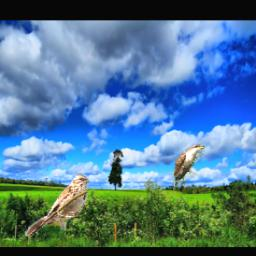Cuckoo: (168, 144, 205, 190)
Sparrow: (25, 175, 89, 237)
